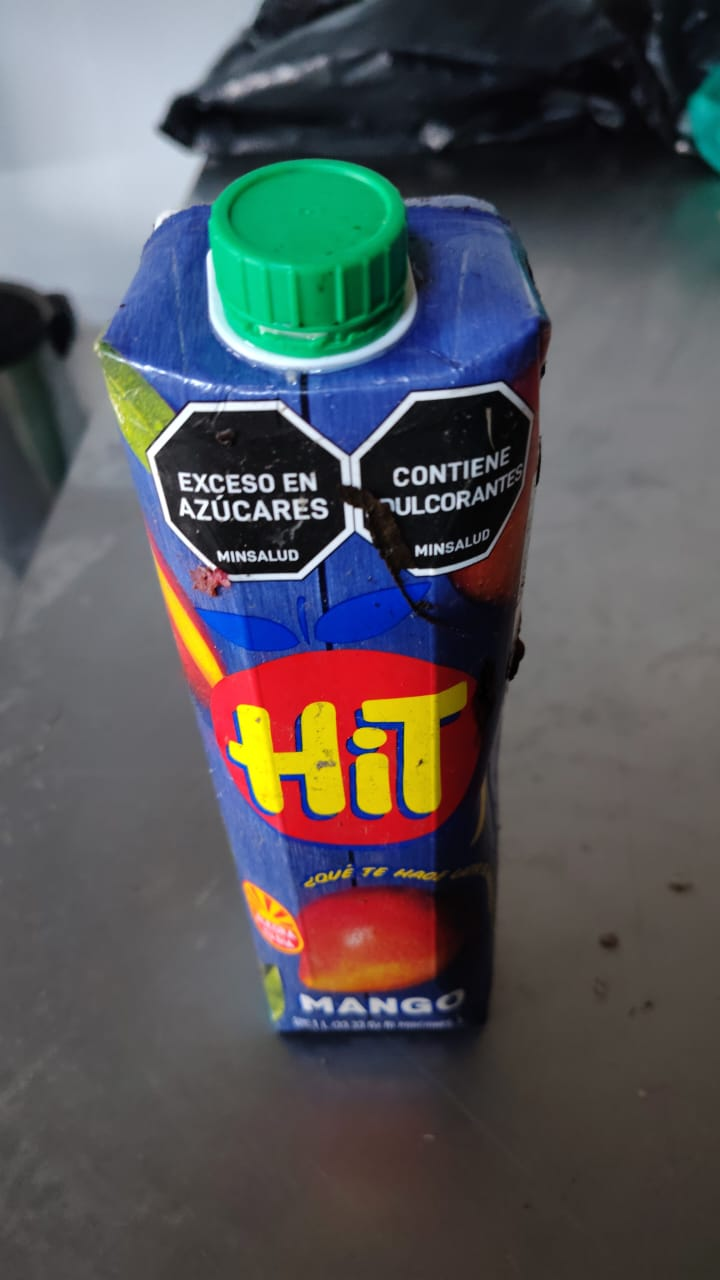Carton: (98, 195, 550, 1035)
